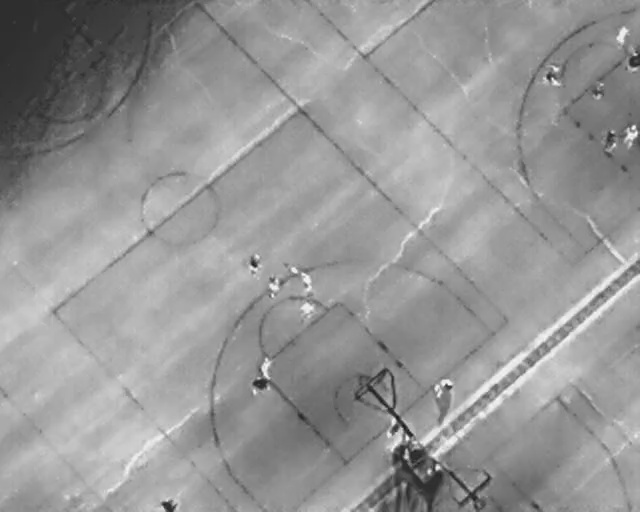Person: (297, 268, 317, 294), (622, 123, 639, 150), (436, 378, 454, 399), (546, 63, 561, 86), (251, 378, 269, 395), (605, 128, 616, 153), (302, 300, 315, 321), (266, 274, 278, 296), (250, 252, 260, 276), (629, 46, 639, 70), (160, 498, 177, 512), (594, 81, 604, 100), (617, 23, 626, 44), (262, 356, 270, 377)
